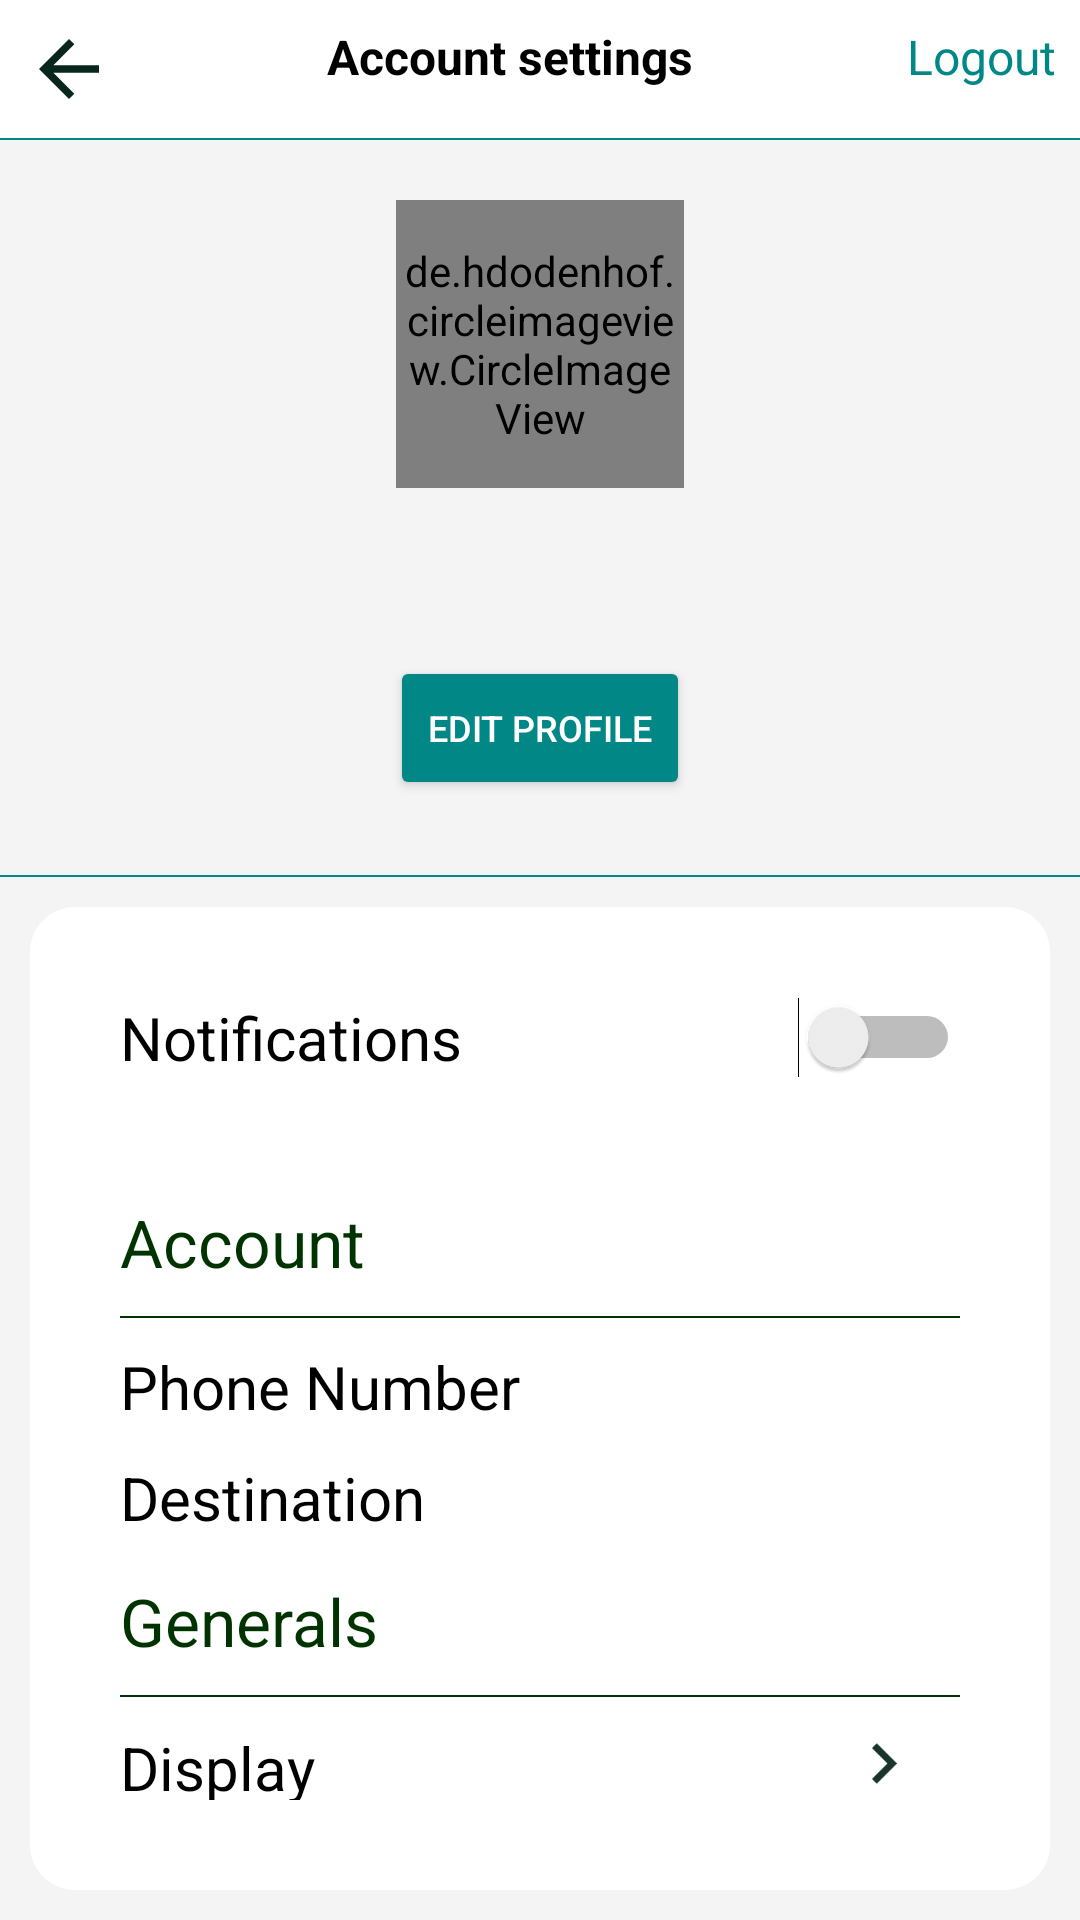

Screen size 1080x1920. Icon name, then its center in pixels as [x,y]:
arrow back: [69,69]
